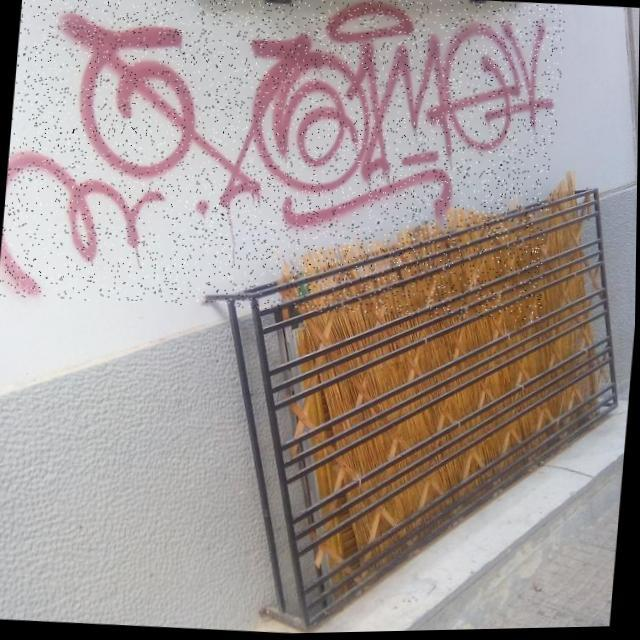-: (0, 0, 567, 333)
